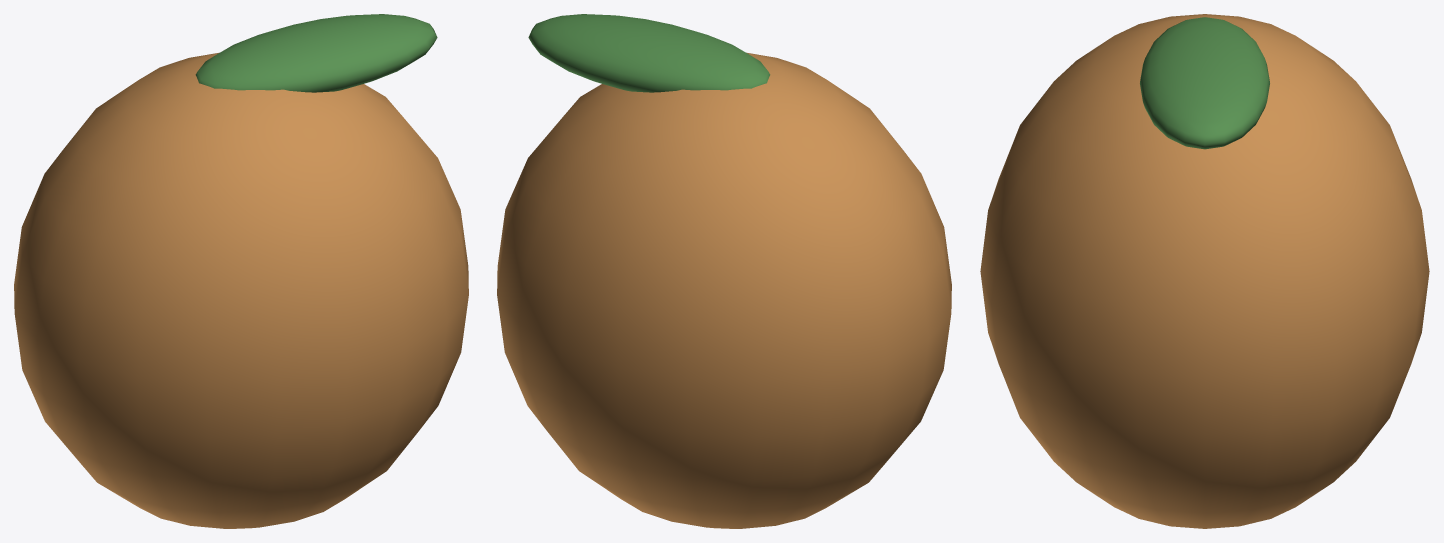
Rendered from berry.glb.
The picture shows the model from 3 angles, left to right: view 1: azimuth 30°, elevation 25°; view 2: azimuth 150°, elevation 25°; view 3: azimuth 270°, elevation 25°; orthographic projection. The views are drawn at different scales.
Parts seen in each view (by area): view 1: Basket berry 00__runtime.001, Berry leaf 00__runtime.001; view 2: Basket berry 00__runtime.001, Berry leaf 00__runtime.001; view 3: Basket berry 00__runtime.001, Berry leaf 00__runtime.001.
Boxes of the visible parts, x1=… form: Basket berry 00__runtime.001: x1=14, y1=52, x2=468, y2=528; Berry leaf 00__runtime.001: x1=195, y1=14, x2=437, y2=92; Basket berry 00__runtime.001: x1=497, y1=52, x2=951, y2=528; Berry leaf 00__runtime.001: x1=528, y1=14, x2=770, y2=92; Basket berry 00__runtime.001: x1=980, y1=14, x2=1429, y2=528; Berry leaf 00__runtime.001: x1=1140, y1=17, x2=1269, y2=149.
Bounding box in the file's own units: 0.1453 × 0.1569 × 0.1306.
